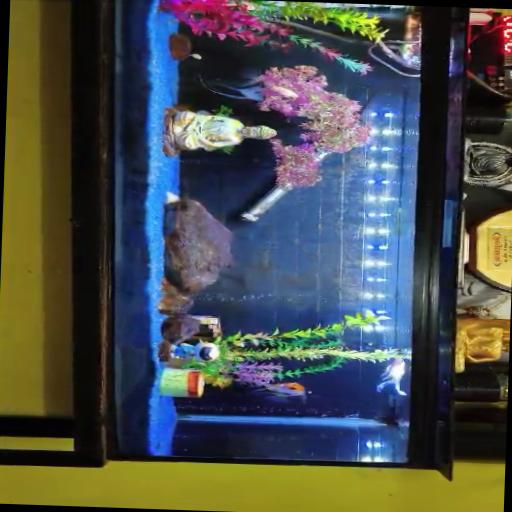Fish: (198, 73, 263, 100), (376, 357, 406, 395), (256, 382, 305, 401), (268, 86, 297, 97), (189, 52, 199, 58)
